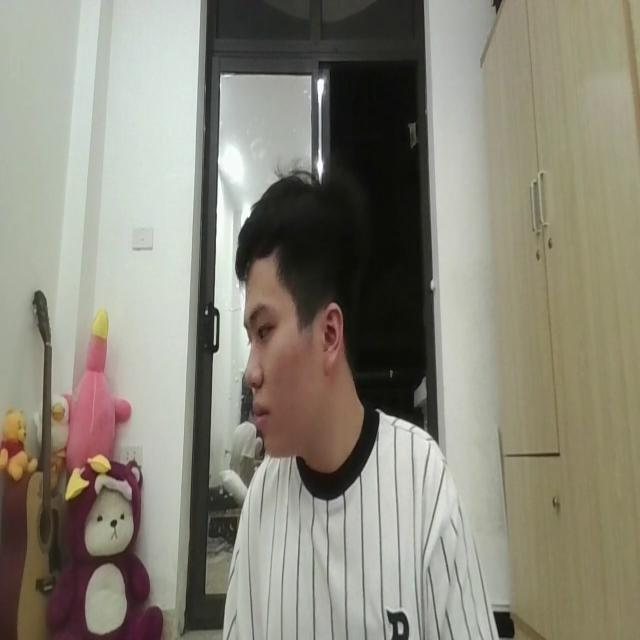student: (218, 166, 499, 640)
